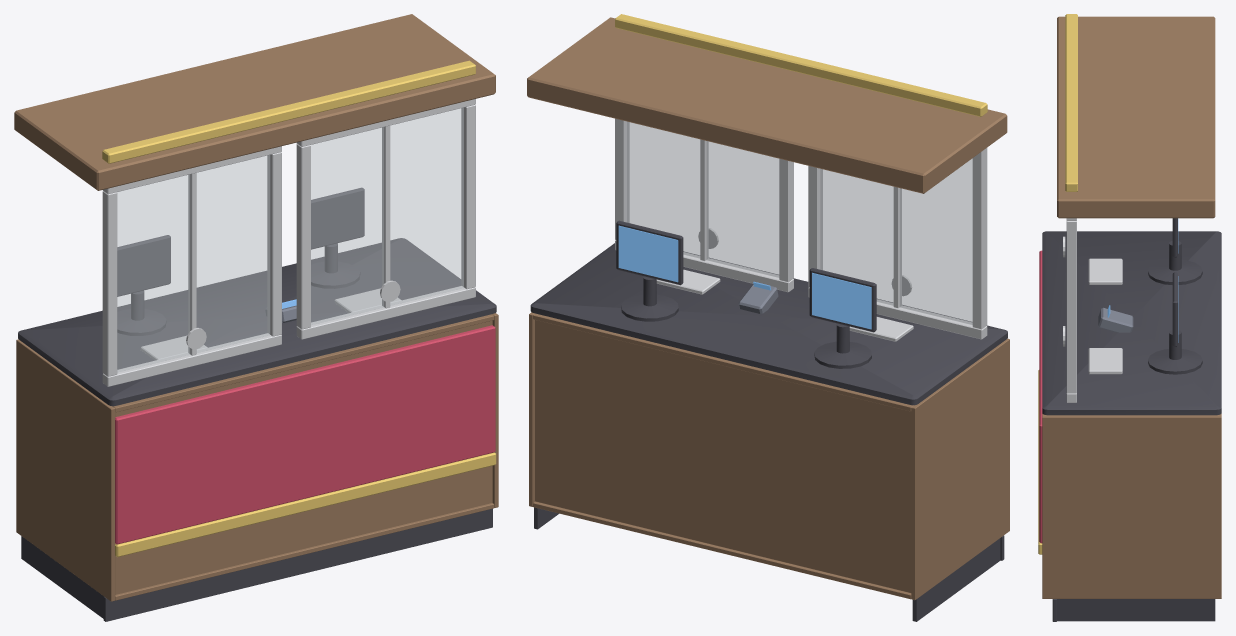
Rendered from cinema-multiplex-and-foyer-box-office-counter-215e746a__34676.glb.
3 views of the same model, side by side, from view 1: azimuth 30°, elevation 25°; view 2: azimuth 150°, elevation 25°; view 3: azimuth 270°, elevation 25° (orthographic). The views are drawn at different scales.
Visible parts, largest first — view 1: box-office-counter; view 2: box-office-counter; view 3: box-office-counter.
Boxes of the visible parts, x1=… form: box-office-counter: x1=14, y1=14, x2=498, y2=621; box-office-counter: x1=527, y1=14, x2=1009, y2=621; box-office-counter: x1=1038, y1=14, x2=1221, y2=621.
Size of the model in its own units: 2.06 by 2.27 by 0.869.
